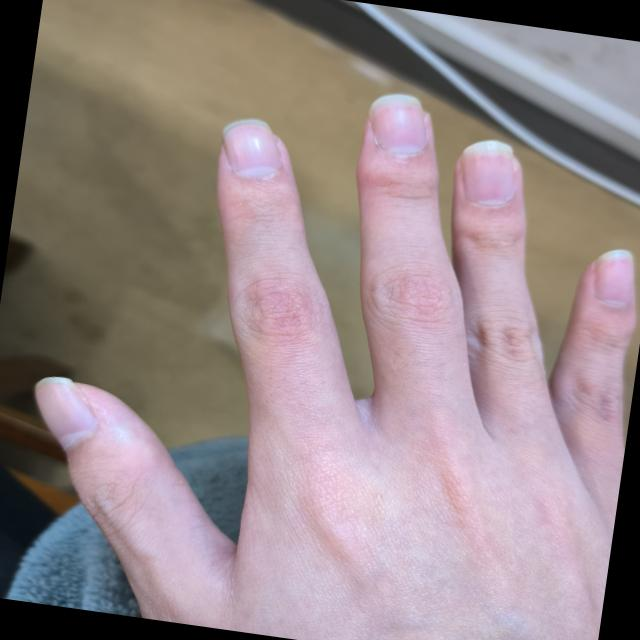Nail: (34, 377, 96, 450), (367, 95, 427, 155), (460, 142, 515, 206), (221, 120, 280, 177), (593, 250, 633, 306)
